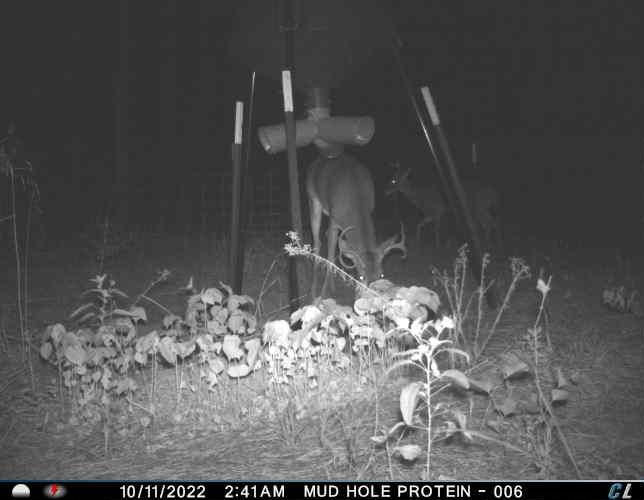Deer: (303, 151, 409, 297), (385, 155, 504, 252)
